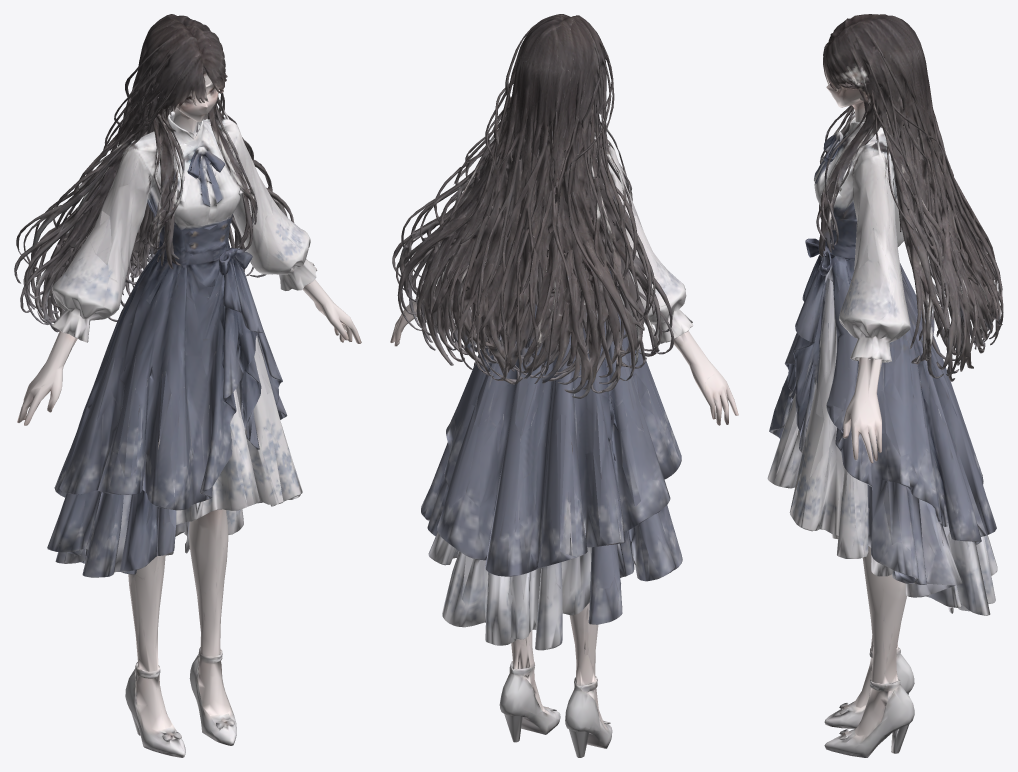
File: song_shiyu.glb
3 views of the same model, side by side, from view 1: azimuth 30°, elevation 25°; view 2: azimuth 150°, elevation 25°; view 3: azimuth 270°, elevation 25° (orthographic).
Parts seen in each view (by area): view 1: Mesh_0; view 2: Mesh_0; view 3: Mesh_0.
Boxes of the visible parts, x1,y1,x2,y2 form: Mesh_0: (14, 14, 361, 757); Mesh_0: (390, 14, 738, 757); Mesh_0: (767, 14, 1003, 757).
Size of the model in its own units: 0.8168 by 1.65 by 0.4907.
1 material, 1 textured.
